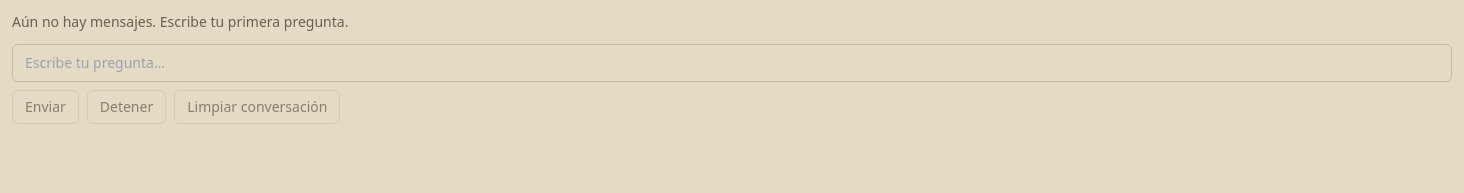
Test: CA-22 — botón 'Detener' cesa la generación en <=2s con el parcial visible › al pulsar 'Detener', el texto parcial permanece visible y la generación cesa
Step 1. Type "Explica los checkpoints" into the field labelled "Escribe tu pregunta…" → (732, 63), box 12,44 -> 1452,82
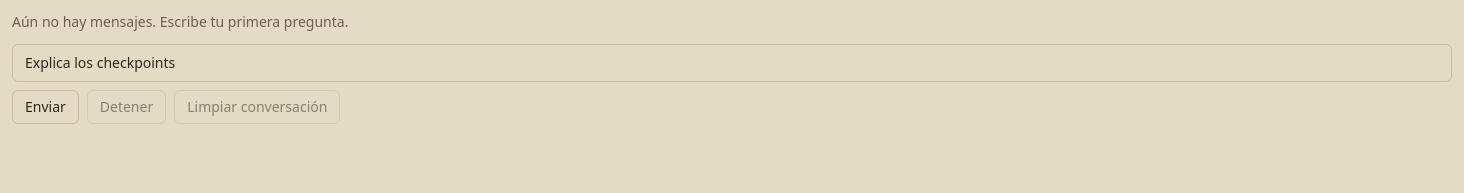
Step 2. Click the button "Enviar" → click(45, 107), box 12,90 -> 79,124
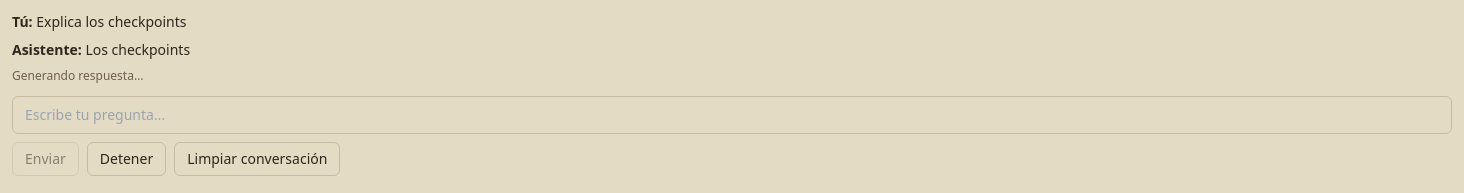
Step 3. Click the button "Detener" → click(126, 159), box 87,142 -> 166,176
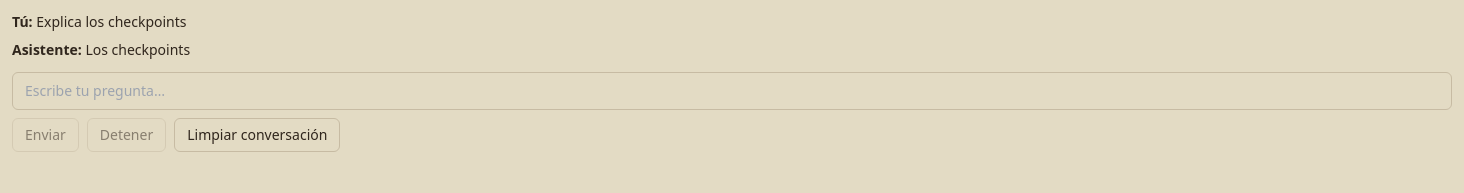
Now the text with test id "chat-message-content" reads "Los checkpoints", box 85,40 -> 194,59
Step 4. Type "otra pregunta" into the field labelled "Escribe tu pregunta…" → (732, 91), box 12,72 -> 1452,110
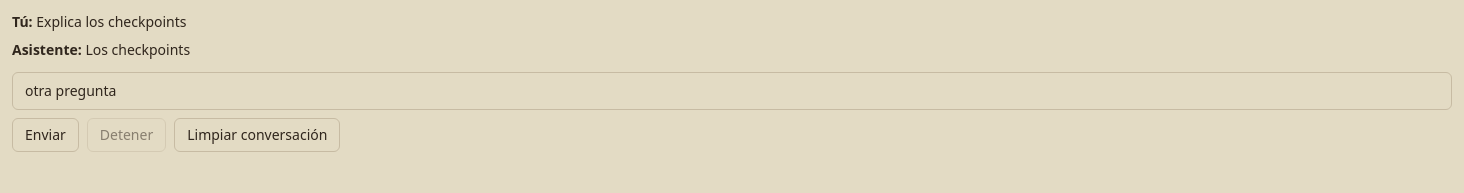
Now the button "Enviar" is enabled, box 12,118 -> 79,152
